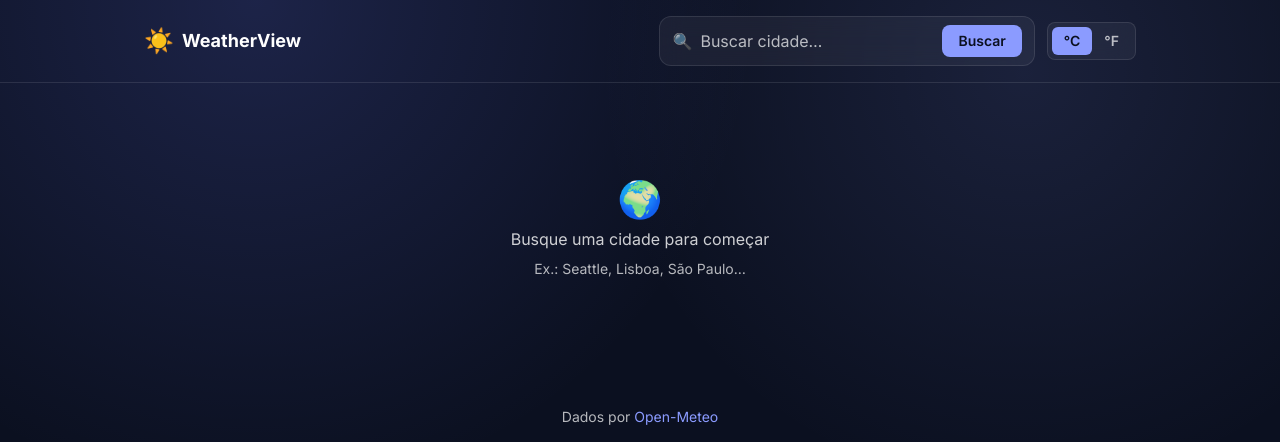
Test: App › mostra carregamento enquanto a busca está pendente
The width and height of the screenshot is (1280, 442).
Type "Lisboa" into the field labelled "Buscar cidade…".
click(817, 41); type("Lisboa")  # box [700, 29, 934, 53]
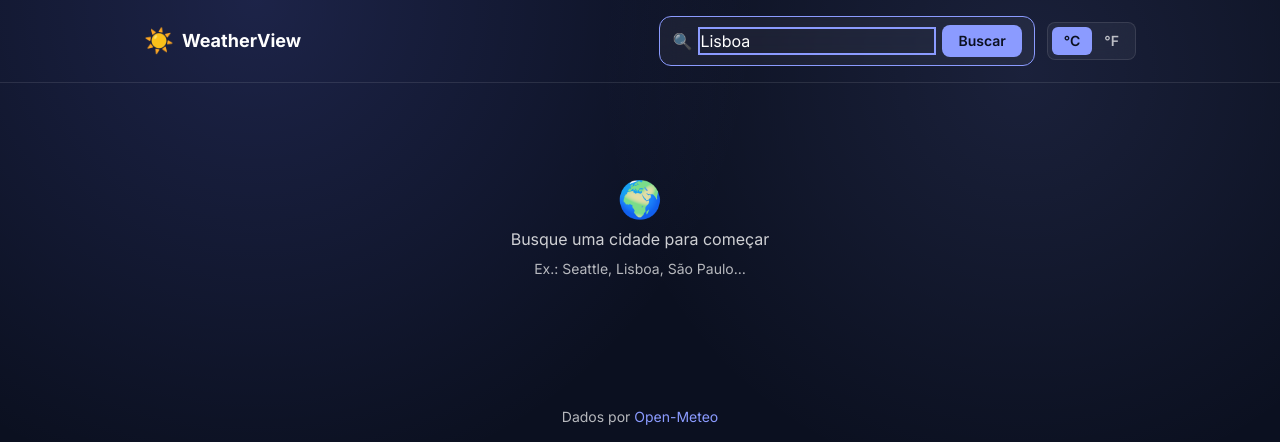
Click the button "Buscar".
click(982, 41)  # box [942, 25, 1022, 57]
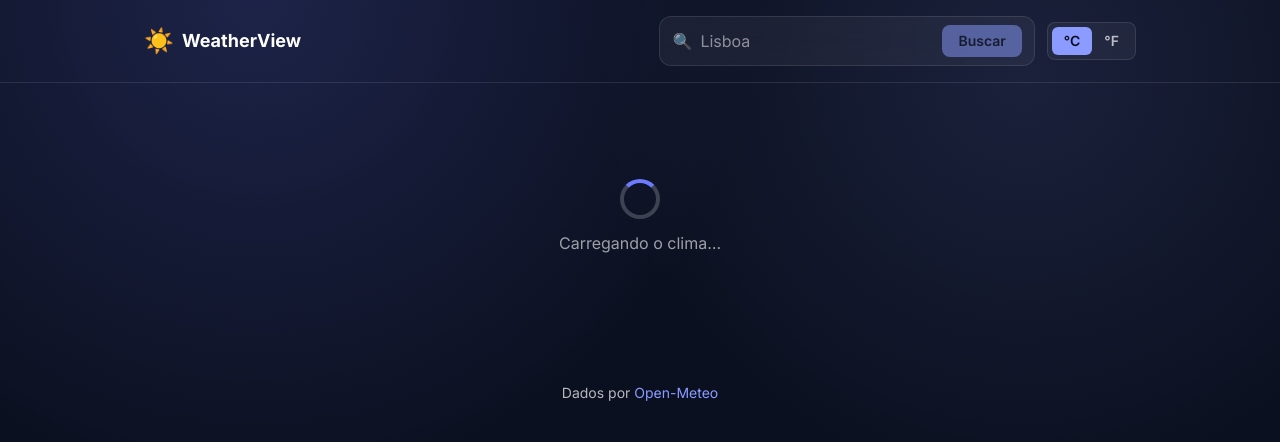
expect the message shows "Carregando": met, box [559, 233, 721, 253]
